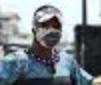with_facemask: (35, 27, 63, 49)
